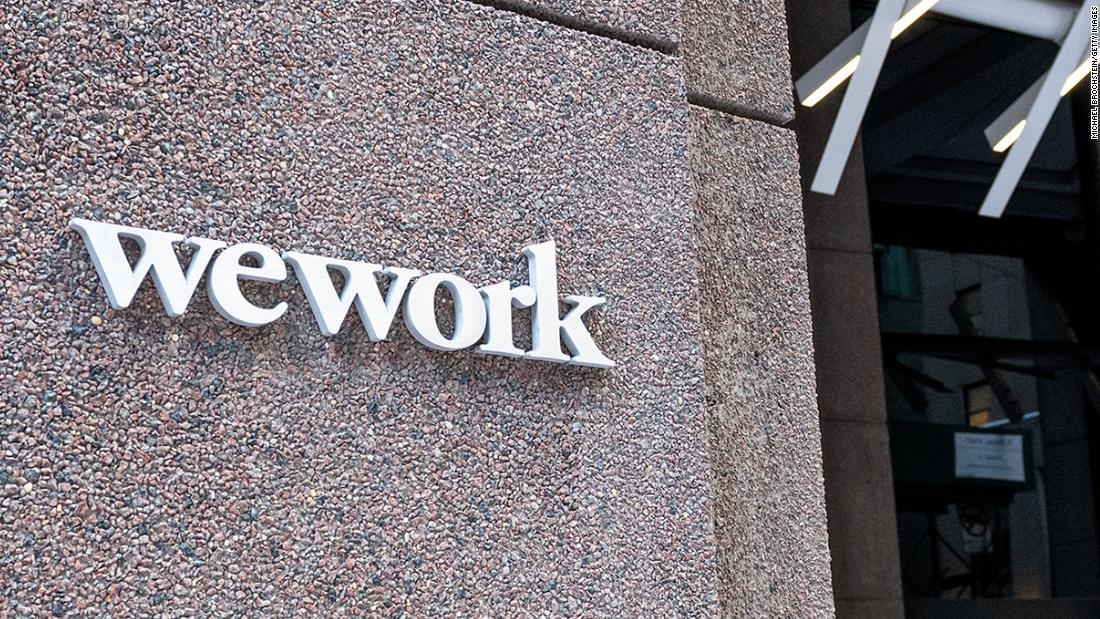wework: (65, 201, 622, 378)
